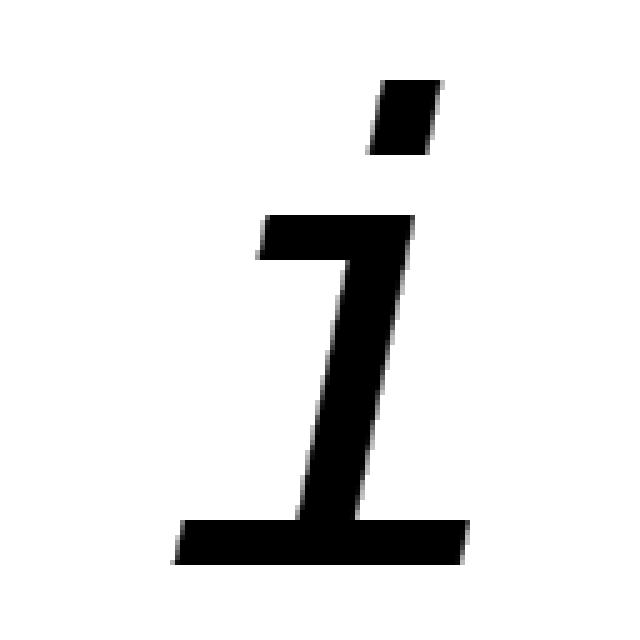I: (165, 79, 473, 567)
